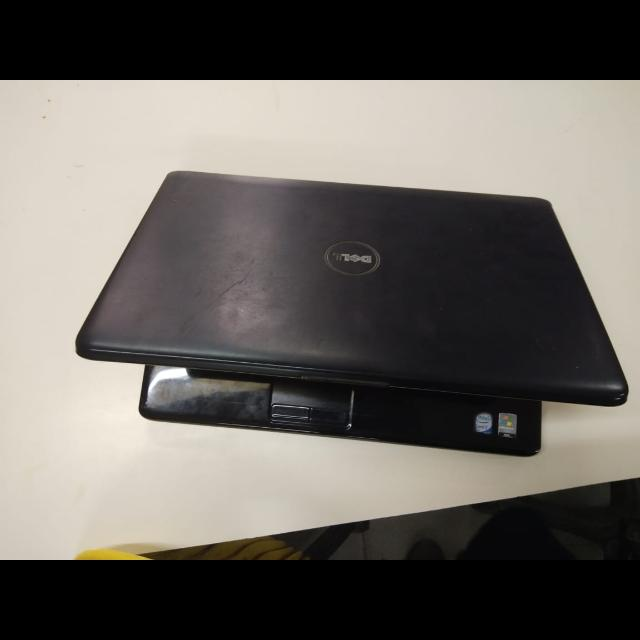Laptop: (65, 162, 633, 468)
